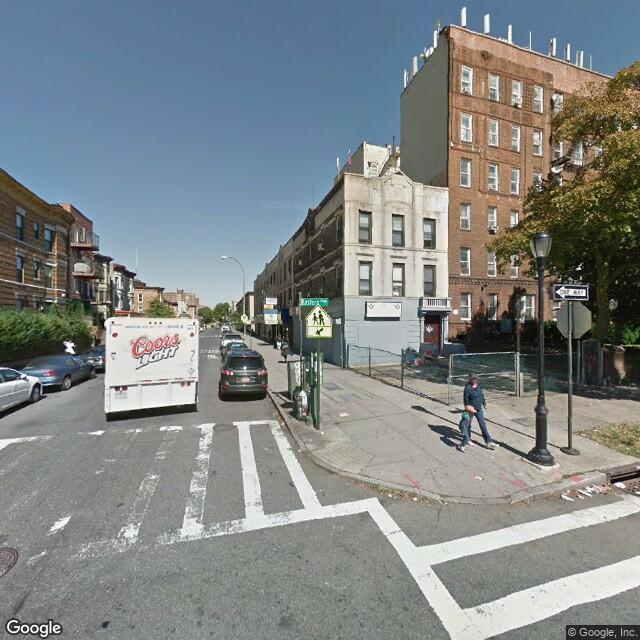litter: (581, 428, 594, 437), (612, 480, 625, 487), (472, 473, 482, 481), (317, 428, 328, 435), (337, 409, 347, 416), (276, 420, 286, 427), (411, 497, 419, 503), (386, 492, 394, 498), (594, 426, 600, 430), (299, 448, 304, 452), (634, 490, 640, 493)
